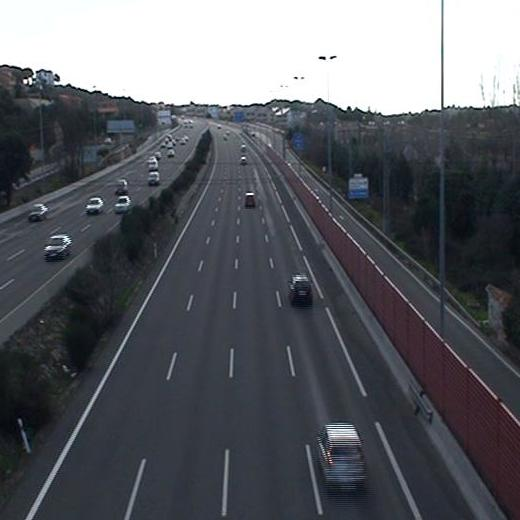car: (311, 419, 371, 497), (285, 271, 317, 307), (243, 190, 258, 210)
